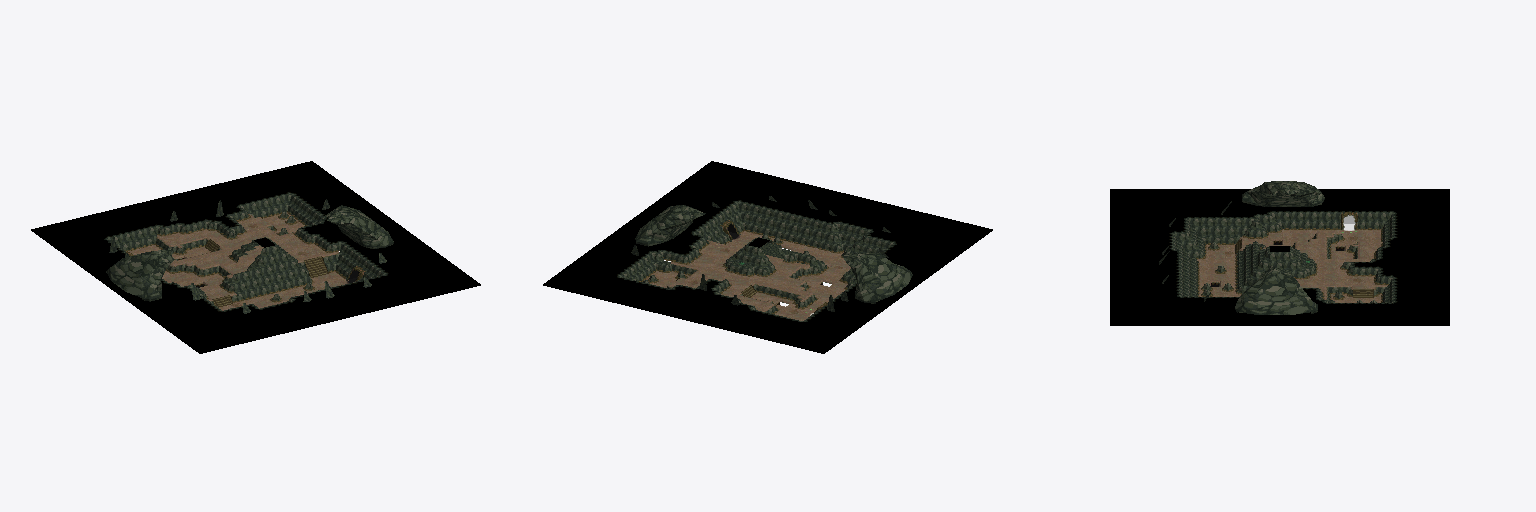
3 renders of one model, left to right at view 1: azimuth 30°, elevation 25°; view 2: azimuth 150°, elevation 25°; view 3: azimuth 270°, elevation 25°, orthographic.
Visible parts, largest first — view 1: polygon11, polygon7, polygon4, polygon16, polygon9, polygon8, polygon0, polygon10; view 2: polygon11, polygon7, polygon4, polygon16, polygon9, polygon8, polygon0; view 3: polygon11, polygon7, polygon4, polygon16, polygon9, polygon8.
Part boxes in pixels (bbox=[...]): polygon11: bbox=[31, 161, 480, 353]; polygon7: bbox=[109, 195, 382, 303]; polygon4: bbox=[129, 213, 348, 310]; polygon16: bbox=[106, 205, 393, 301]; polygon9: bbox=[106, 193, 386, 310]; polygon8: bbox=[124, 210, 346, 302]; polygon0: bbox=[109, 199, 386, 313]; polygon10: bbox=[205, 217, 328, 307]; polygon11: bbox=[543, 161, 992, 353]; polygon7: bbox=[622, 203, 891, 313]; polygon4: bbox=[646, 231, 850, 320]; polygon16: bbox=[635, 205, 912, 303]; polygon9: bbox=[618, 201, 894, 321]; polygon8: bbox=[639, 229, 848, 313]; polygon0: bbox=[631, 196, 890, 311]; polygon11: bbox=[1110, 189, 1449, 325]; polygon7: bbox=[1175, 214, 1391, 302]; polygon4: bbox=[1197, 229, 1387, 302]; polygon16: bbox=[1235, 181, 1324, 314]; polygon9: bbox=[1172, 212, 1393, 302]; polygon8: bbox=[1196, 223, 1389, 302].
Bounding box in the file's own units: 11.75 × 2.12 × 12.25.
Materials: 19 (19 with a texture image).